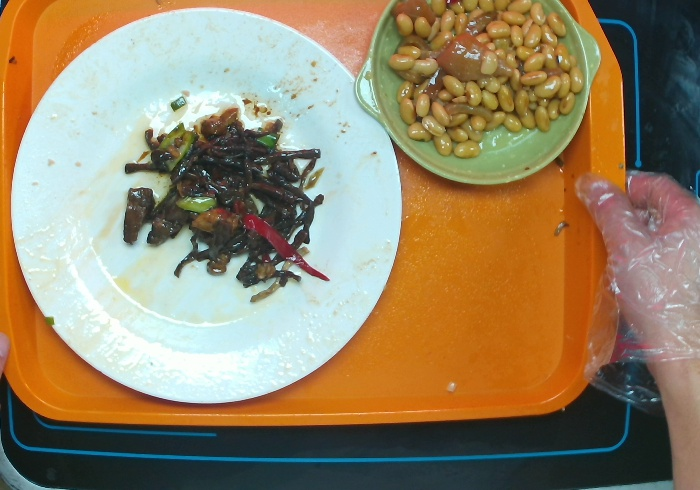NLDX-Da_Yuan_Pan: (7, 6, 402, 405)
NLDX-Lv_Hua_Shuang_Er_Die: (351, 1, 607, 188)
